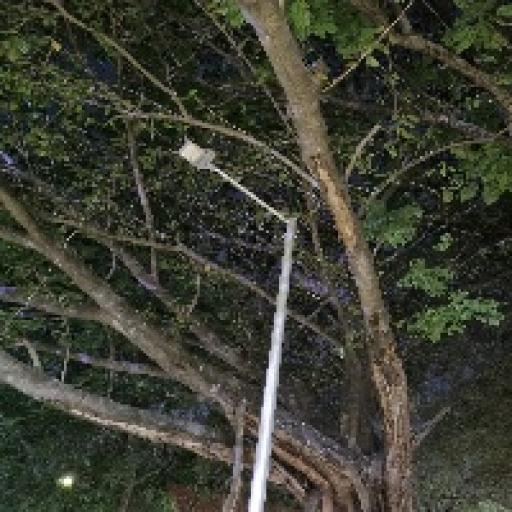Not Working: (168, 127, 230, 179)
